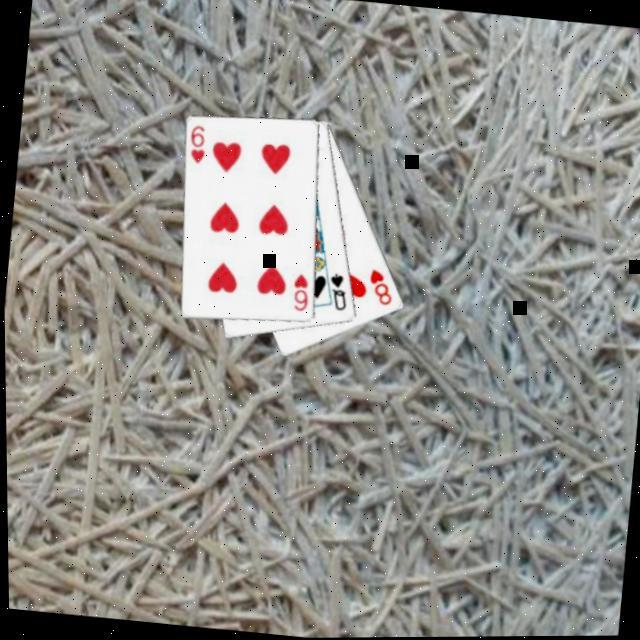6H: (289, 268, 314, 314), (186, 120, 211, 165)
8H: (365, 264, 398, 308)
QS: (325, 268, 353, 312)
